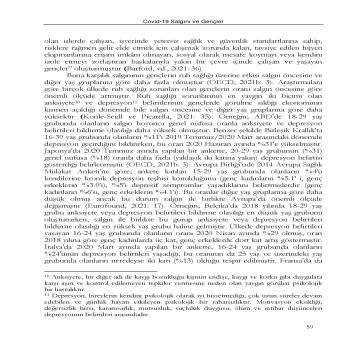footer: (41, 274, 325, 321)
header: (141, 18, 226, 26)
